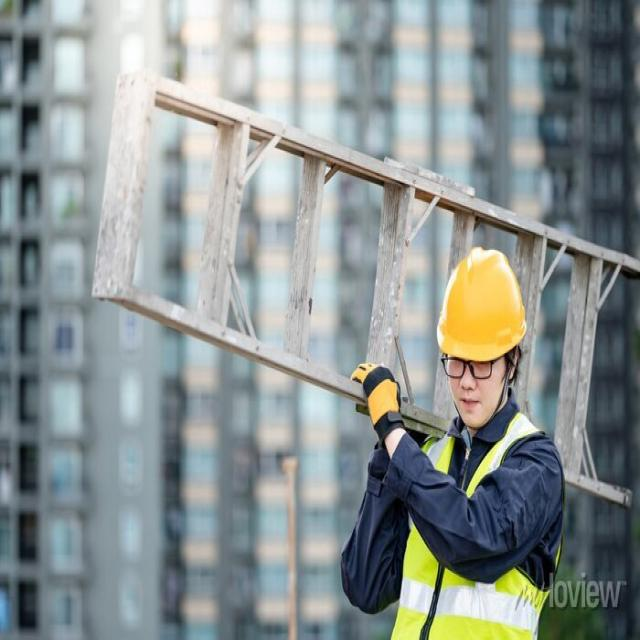goggles: (436, 347, 516, 385)
helmet: (436, 241, 530, 366)
vest: (387, 404, 564, 640)
